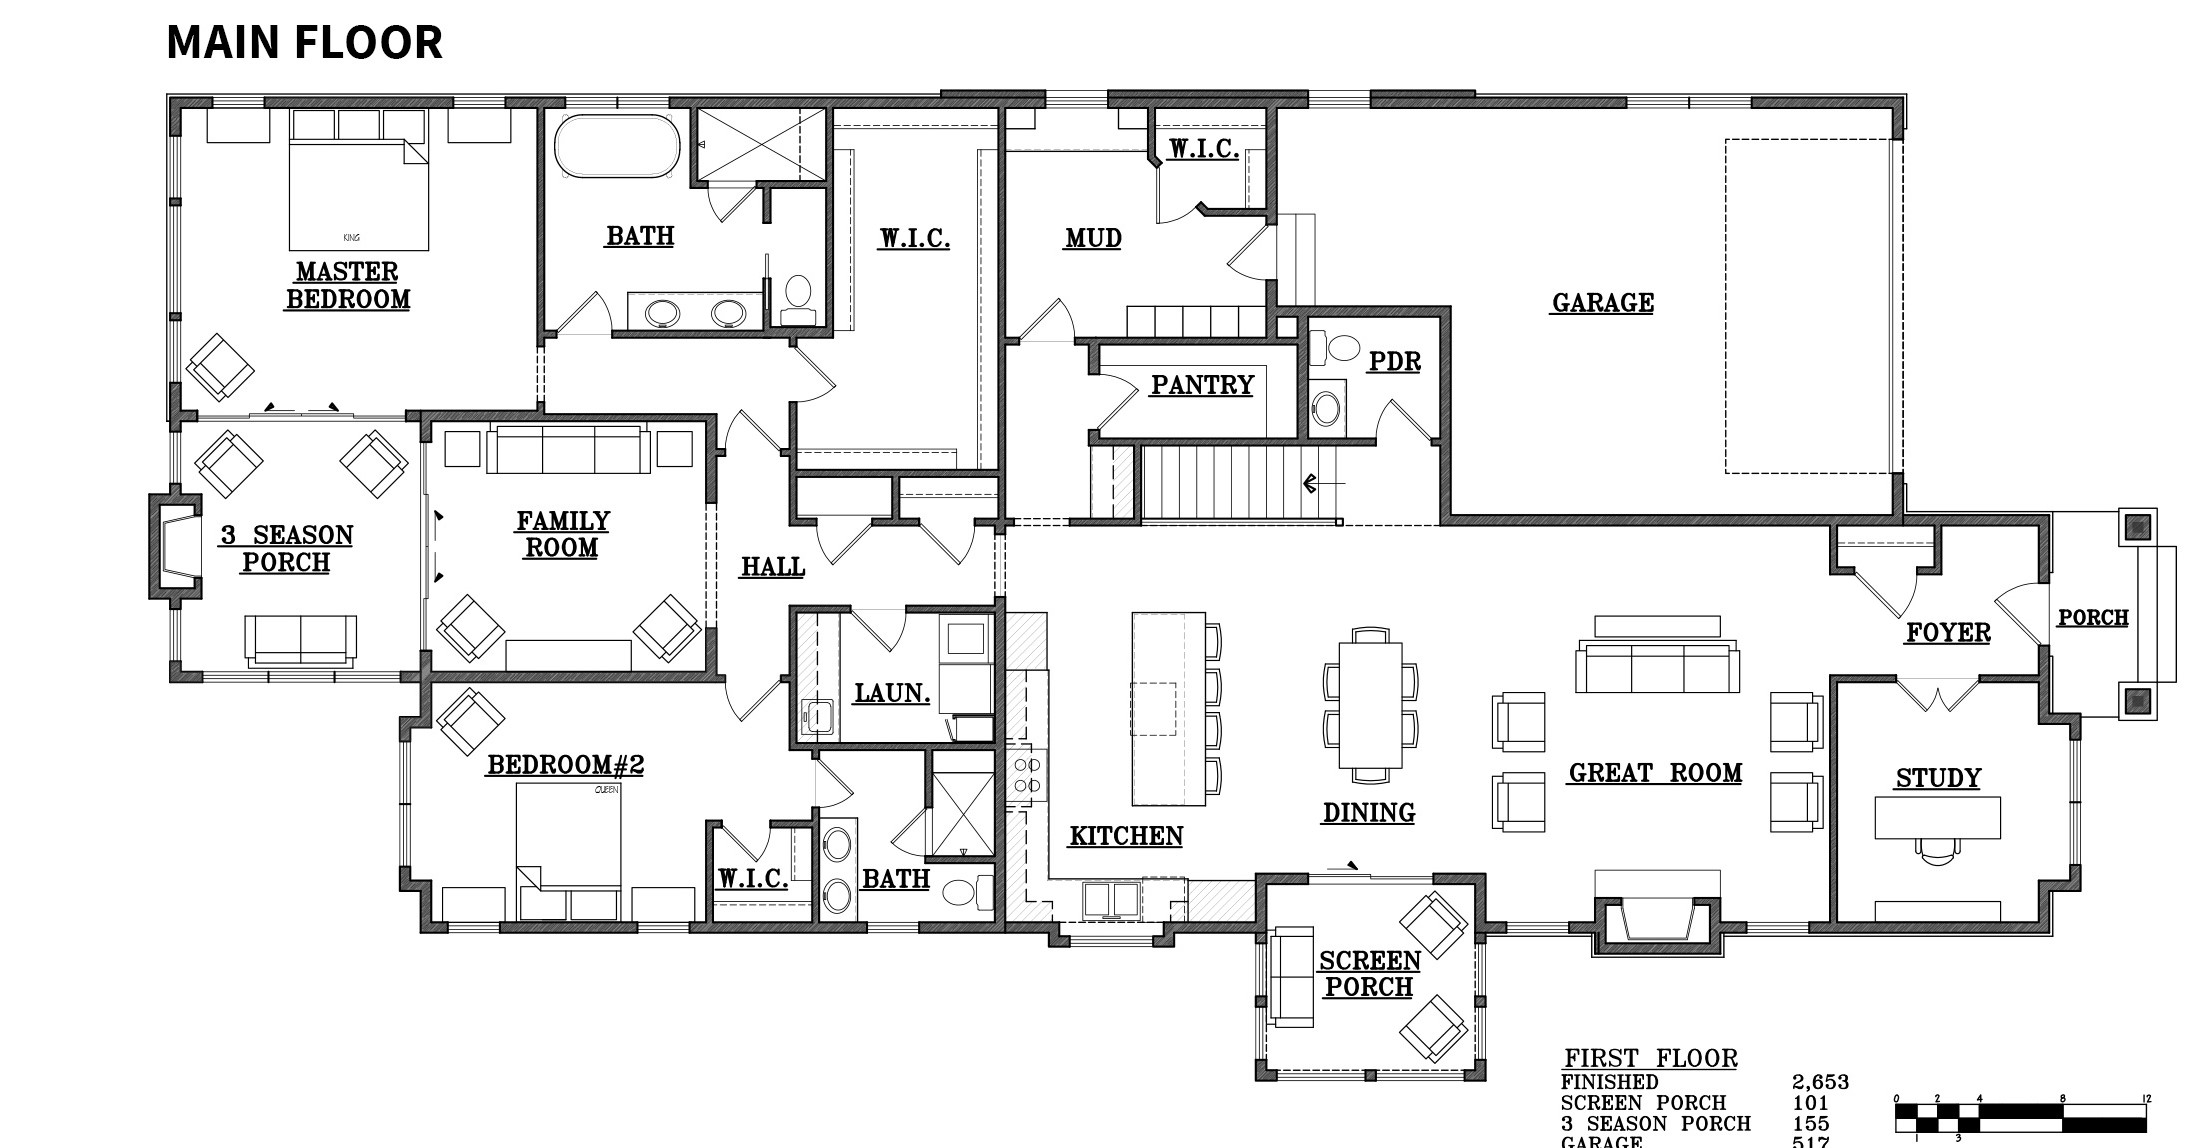wall: (1441, 509, 2053, 534), (994, 96, 1012, 934), (1421, 300, 1459, 519), (668, 92, 1041, 111), (1823, 665, 1849, 928), (400, 666, 721, 685), (1812, 918, 2061, 940), (405, 409, 719, 425), (1365, 92, 1627, 111), (1095, 437, 1392, 451), (820, 96, 837, 340), (690, 917, 865, 940), (785, 463, 1010, 480), (1071, 329, 1312, 345), (1265, 300, 1437, 322), (785, 605, 808, 758), (1105, 89, 1317, 105), (610, 324, 850, 338), (783, 736, 994, 751), (501, 917, 641, 938), (1753, 89, 1910, 108), (785, 402, 808, 525), (913, 918, 1054, 938), (263, 95, 453, 109), (1597, 938, 1719, 957), (413, 647, 440, 728), (1293, 308, 1309, 439), (686, 97, 707, 189), (2023, 518, 2054, 582), (1163, 918, 1269, 936), (703, 404, 723, 495), (2034, 647, 2057, 722), (917, 736, 940, 805), (1820, 666, 1903, 685), (1130, 442, 1150, 518), (705, 821, 721, 917), (1463, 874, 1485, 944), (537, 89, 543, 342), (148, 490, 163, 591), (1705, 889, 1728, 952), (994, 598, 999, 927), (923, 850, 1003, 867), (814, 809, 825, 928), (885, 471, 908, 530), (790, 598, 852, 618), (505, 96, 571, 113), (1258, 861, 1301, 888), (910, 599, 988, 614), (151, 489, 197, 514), (872, 511, 927, 530), (1250, 872, 1272, 918), (137, 582, 199, 598), (1977, 671, 2039, 687), (1429, 872, 1483, 889), (400, 869, 429, 901), (416, 902, 445, 934), (167, 386, 188, 431), (1061, 517, 1149, 527), (1594, 893, 1610, 944), (163, 95, 210, 109), (2034, 877, 2045, 928), (167, 95, 181, 129), (758, 185, 770, 223), (763, 180, 833, 185)
